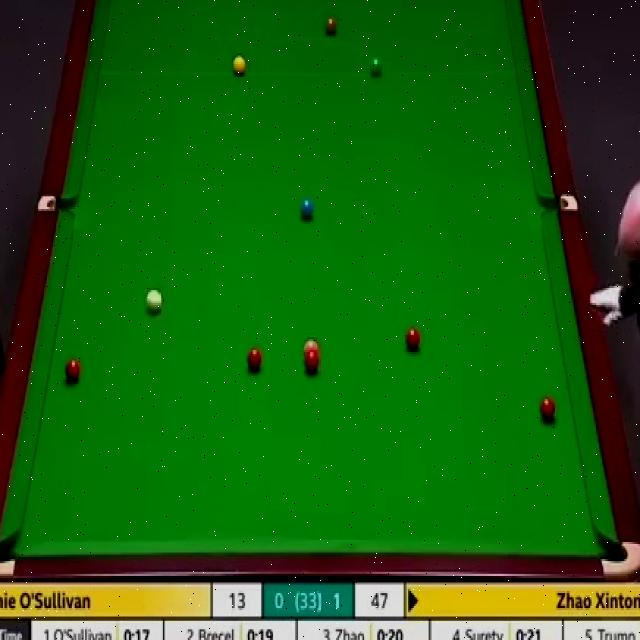blue-ball: (300, 199, 313, 221)
brown-ball: (322, 16, 338, 37)
green-ball: (368, 54, 383, 77)
pink-ball: (303, 339, 316, 360)
red-ball: (538, 395, 556, 423), (63, 360, 81, 383), (404, 328, 420, 351), (247, 349, 262, 372), (305, 355, 319, 378)
white-ball: (145, 289, 162, 317)
yellow-ball: (232, 54, 246, 75)
